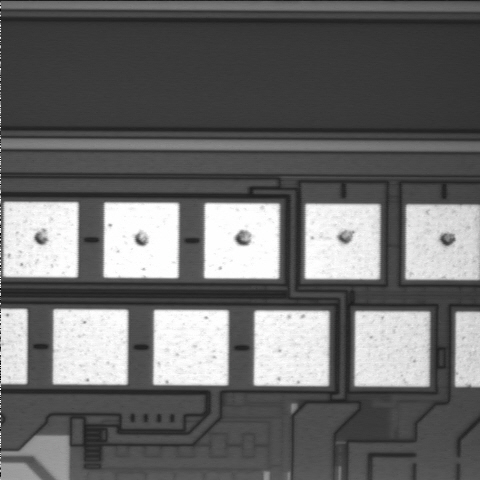pad: (103, 202, 179, 278), (204, 203, 280, 279), (153, 310, 229, 386), (354, 311, 430, 387), (3, 202, 78, 278), (53, 309, 128, 385), (254, 310, 329, 386), (305, 204, 380, 279)
